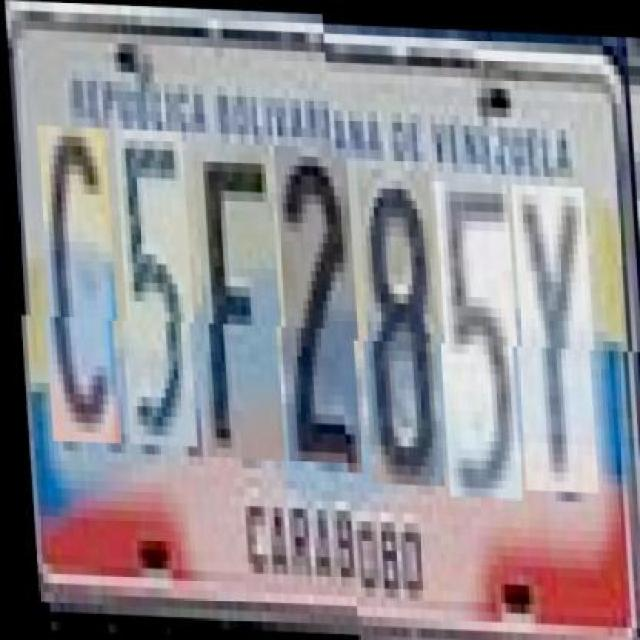2: (272, 152, 362, 471)
5: (432, 177, 520, 495), (113, 138, 198, 454)
8: (354, 165, 444, 483)
c: (35, 136, 120, 452)
f: (190, 149, 284, 468)
y: (509, 180, 597, 488)
